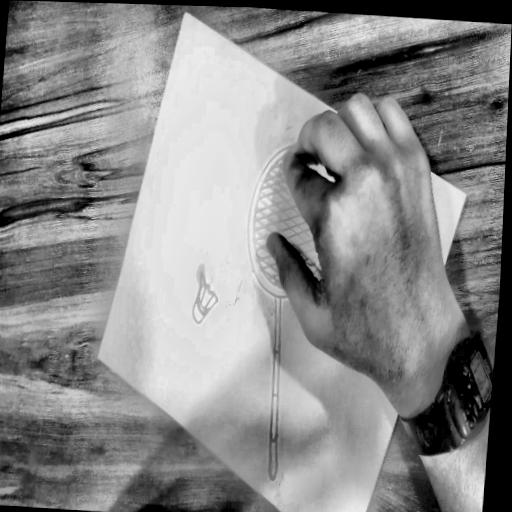badminton: (136, 96, 402, 505)
bottom_right: (94, 351, 101, 362)
top_left: (462, 190, 469, 200)
top_right: (181, 7, 188, 17)
